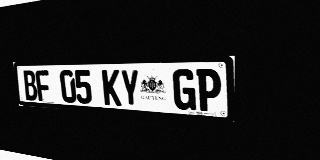0: (59, 70, 77, 103)
5: (74, 70, 93, 104)
B: (22, 70, 38, 101)
F: (35, 70, 52, 102)
G: (172, 69, 196, 111)
K: (102, 70, 121, 106)
P: (196, 69, 221, 112)
Y: (120, 69, 140, 107)
